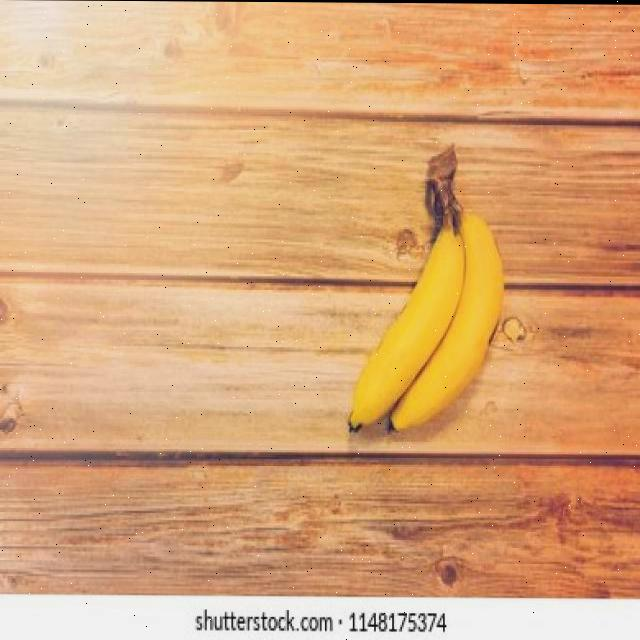banana: (344, 144, 510, 442)
